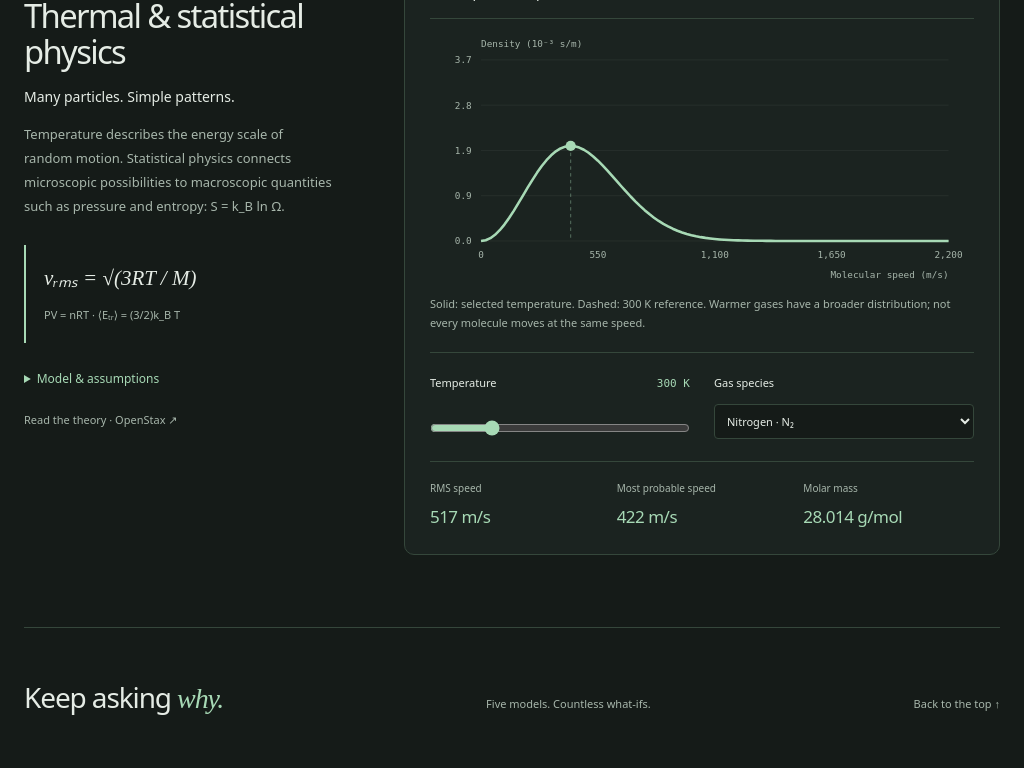
Test: changes gas speeds with temperature and species
This screenshot has width=1024, height=768.
(page scrolled)
Set the slider labelled "Temperature 300 K" to "1000": (682, 428) [430,417,690,439]
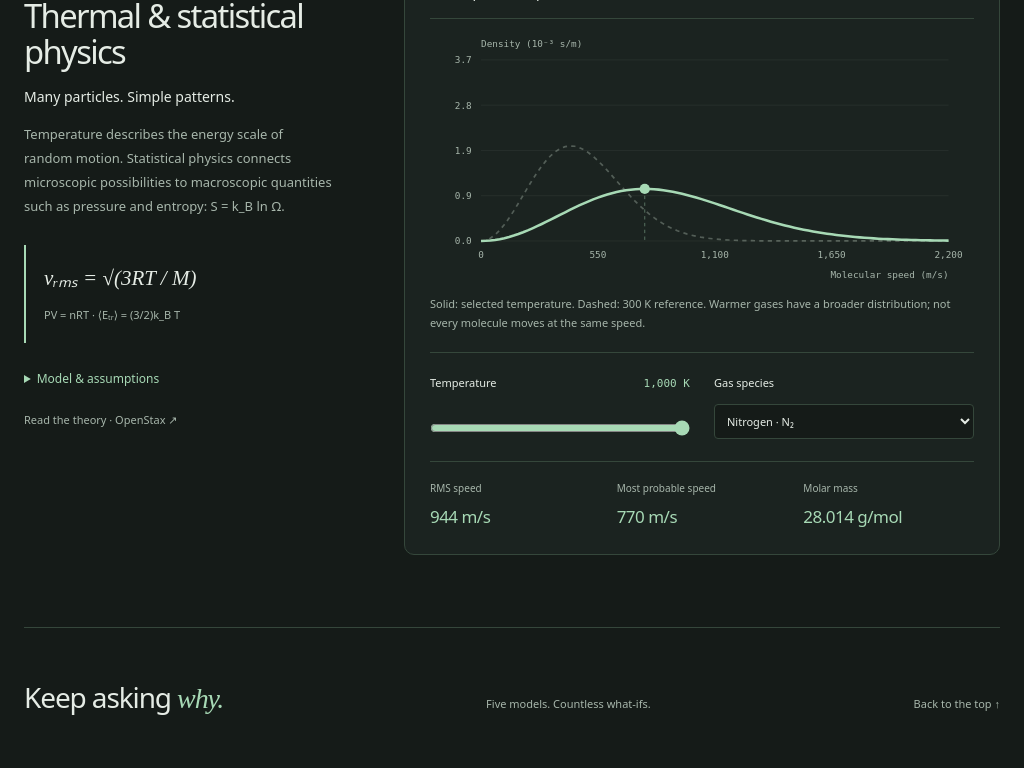
Select "Helium · He" in the dropdown labelled "Gas species": (844, 421) [714,404,974,439]
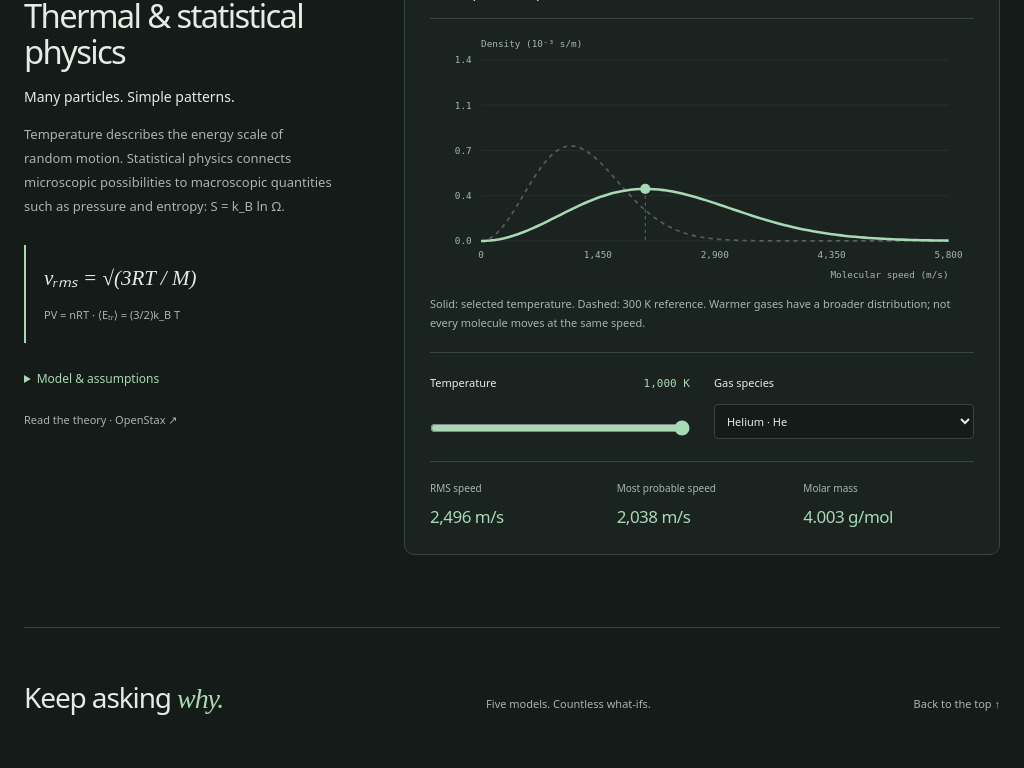
Now the text "4.003 g/mol" is shown, box [803,505,893,528]
